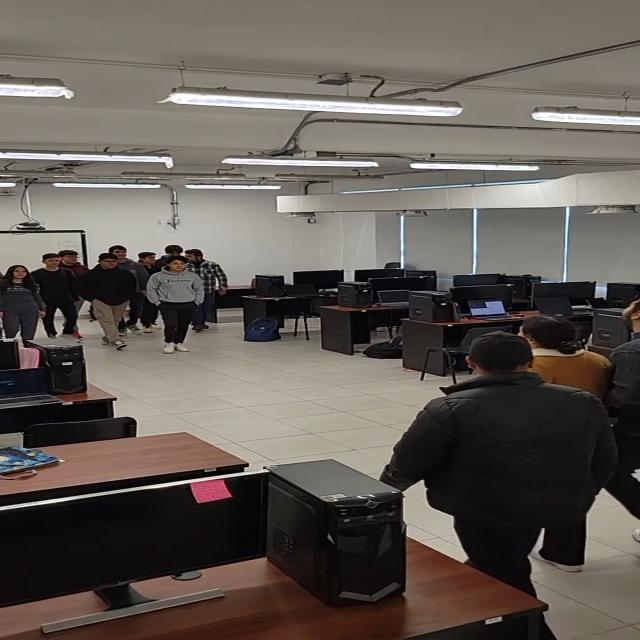Persona: (424, 337, 606, 598), (525, 308, 627, 398), (150, 258, 211, 339), (89, 253, 140, 347), (35, 254, 75, 337), (4, 268, 42, 340)
